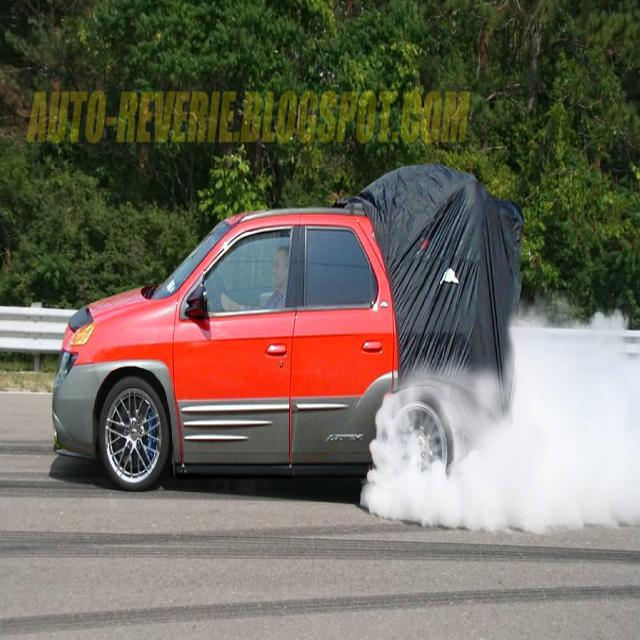car: (50, 162, 528, 510)
